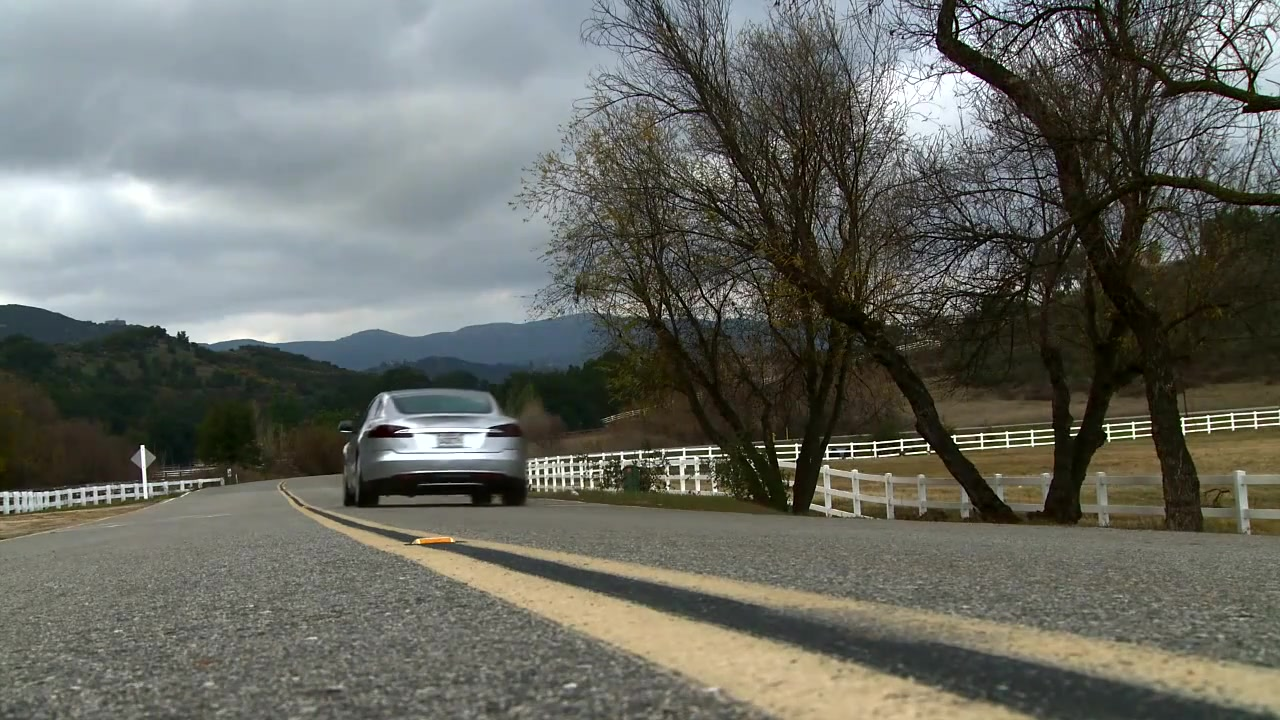car: (335, 386, 530, 509)
